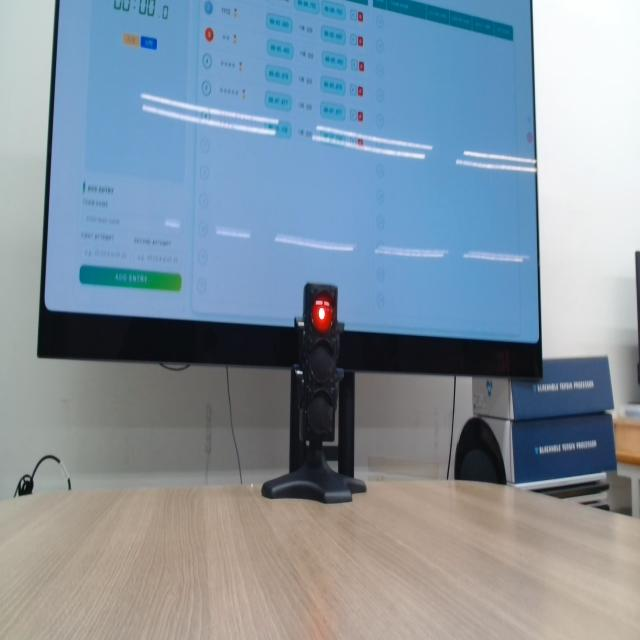red_light: (312, 294, 333, 333)
